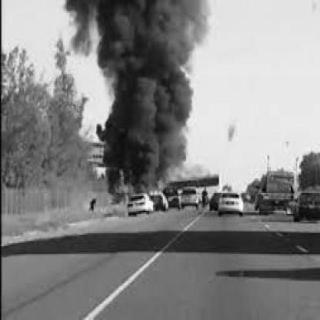Fire: (101, 152, 183, 210)
Smoke: (78, 0, 215, 166)
